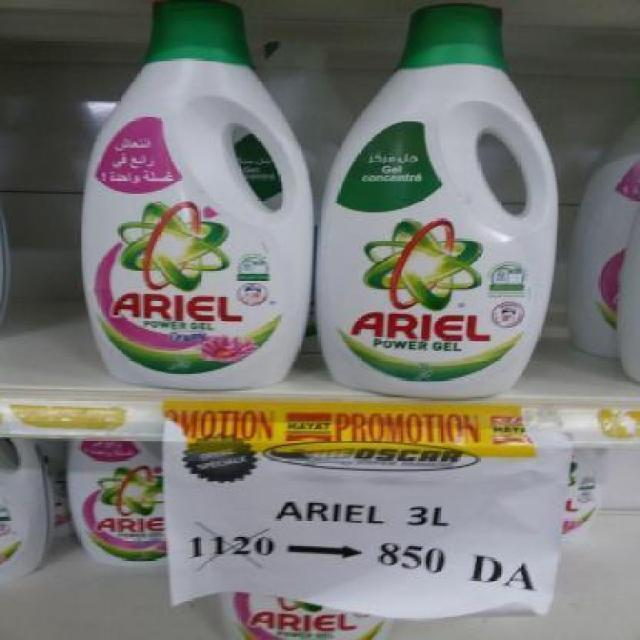Detergent: (316, 0, 567, 397), (84, 0, 313, 391)
